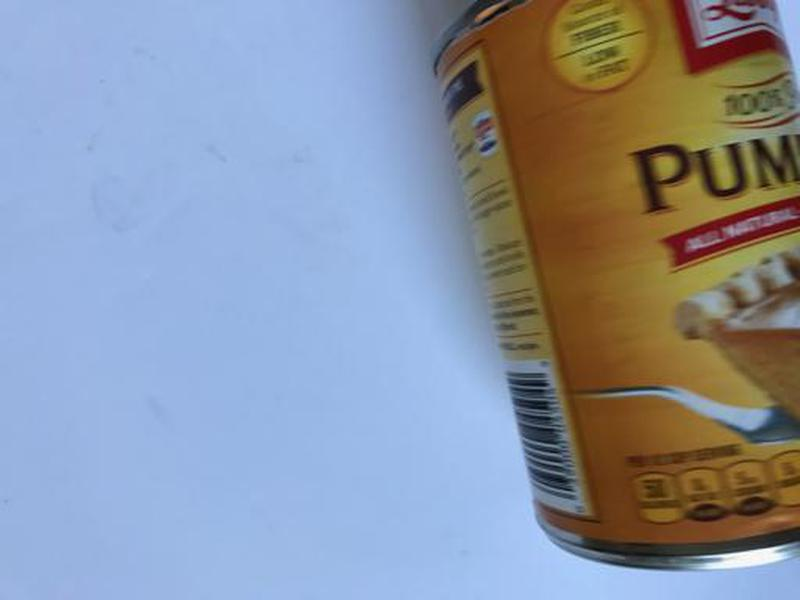can: (415, 1, 800, 581)
